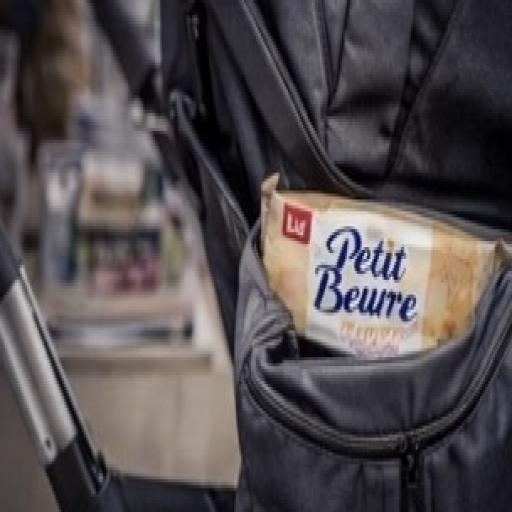petit-beurre: (222, 125, 512, 447)
